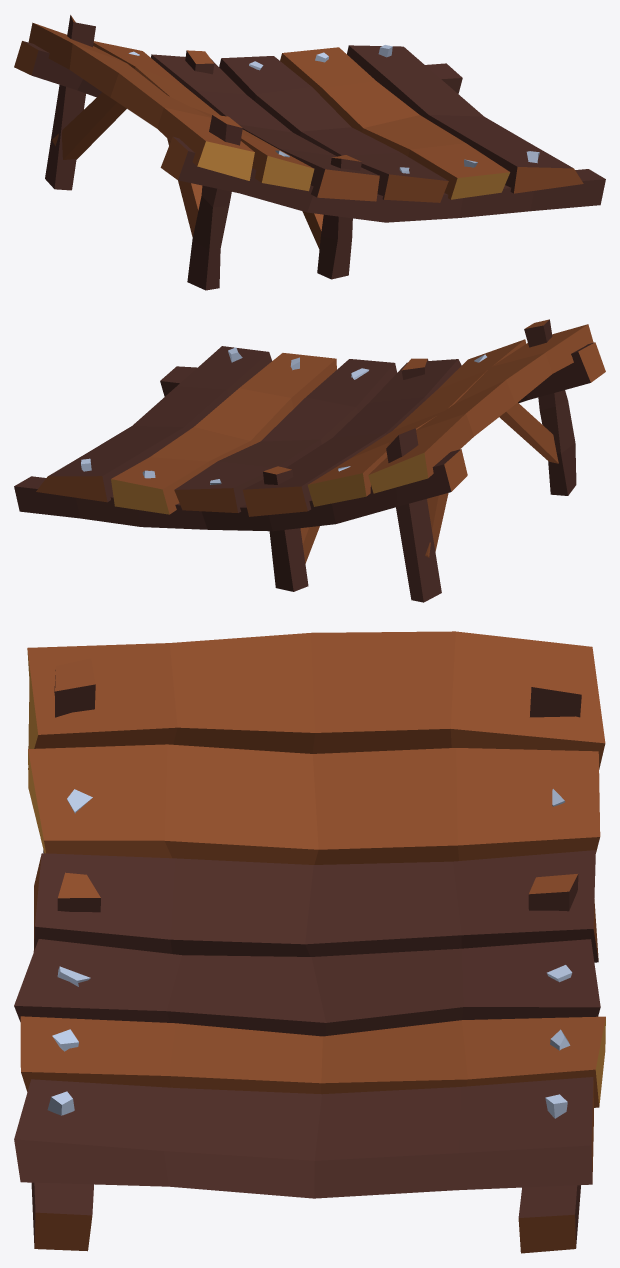
File: Ramp.fbx
The picture shows the model from 3 angles, top to bottom: view 1: azimuth 30°, elevation 25°; view 2: azimuth 150°, elevation 25°; view 3: azimuth 270°, elevation 25°; orthographic projection. The views are drawn at different scales.
Parts seen in each view (by area): view 1: Ramp; view 2: Ramp; view 3: Ramp.
Boxes of the visible parts, <box> form: Ramp: <box>14,15,605,290</box>; Ramp: <box>14,319,605,602</box>; Ramp: <box>14,631,605,1253</box>.
Size of what is drawn, in the model's own units: 210 by 299 by 124.
